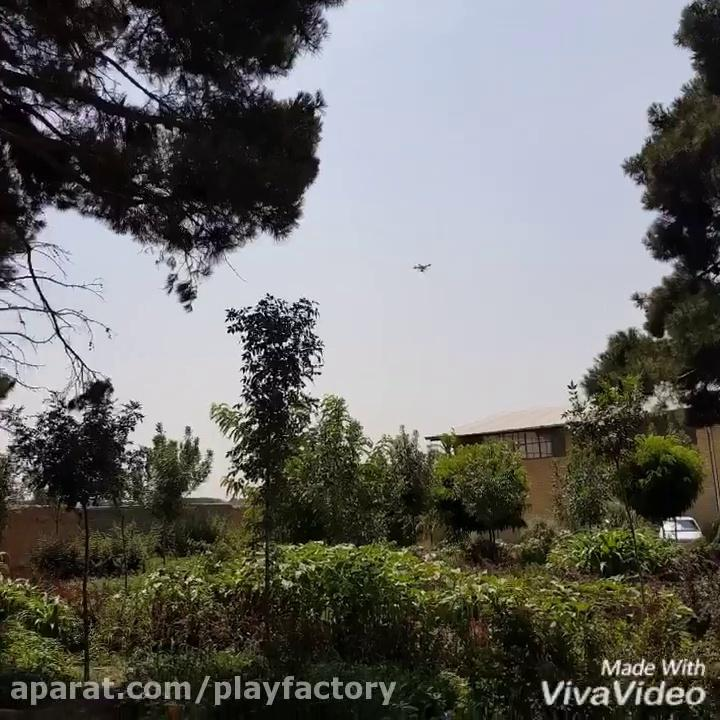drone: (405, 255, 436, 279)
